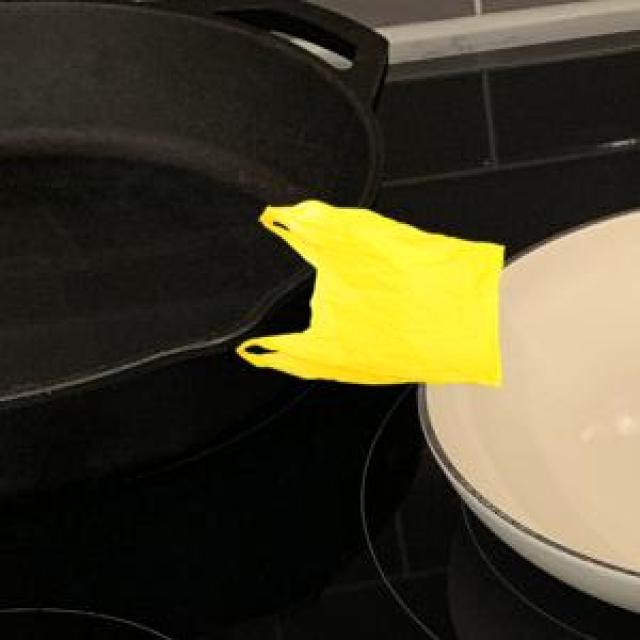Plastic_Bag: (234, 197, 501, 383)
